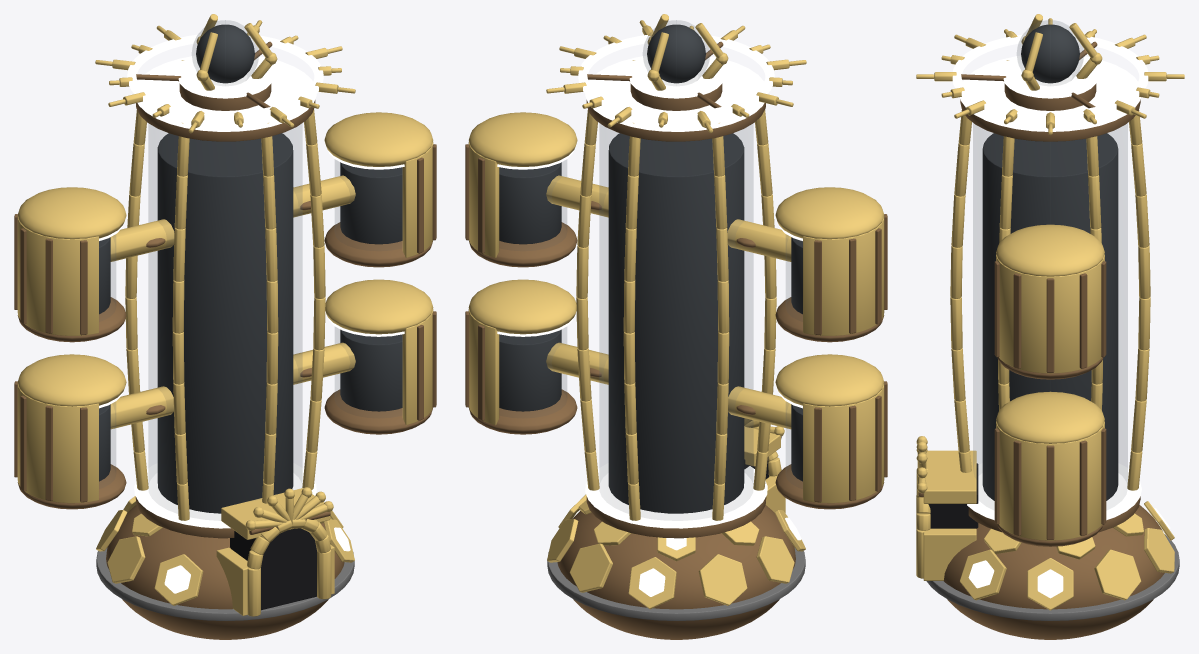
Rendered from SOLAR_Vat_T4.glb.
The picture shows the model from 3 angles, left to right: view 1: azimuth 30°, elevation 25°; view 2: azimuth 150°, elevation 25°; view 3: azimuth 270°, elevation 25°; orthographic projection.
Visible parts, largest first — view 1: SOLAR_Vat_T4; view 2: SOLAR_Vat_T4; view 3: SOLAR_Vat_T4.
Part boxes in pixels (x1,y1,x2,y2): SOLAR_Vat_T4: (14, 14, 436, 639); SOLAR_Vat_T4: (465, 14, 887, 639); SOLAR_Vat_T4: (916, 14, 1184, 639).
Size of the model in its own units: 6.37 by 8.96 by 3.64.
